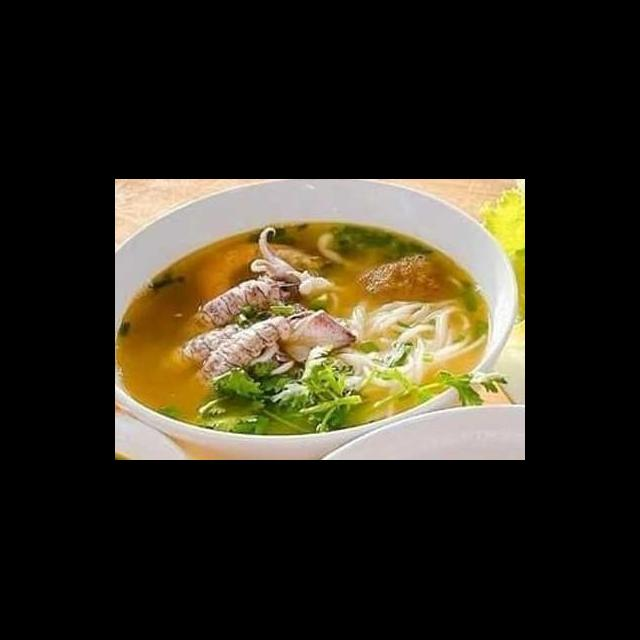bun: (322, 296, 489, 394)
bun hai san: (129, 204, 508, 425)
muc: (245, 224, 340, 302), (272, 306, 359, 368)
tom tit: (186, 312, 295, 393), (175, 276, 283, 342), (162, 318, 256, 376)
